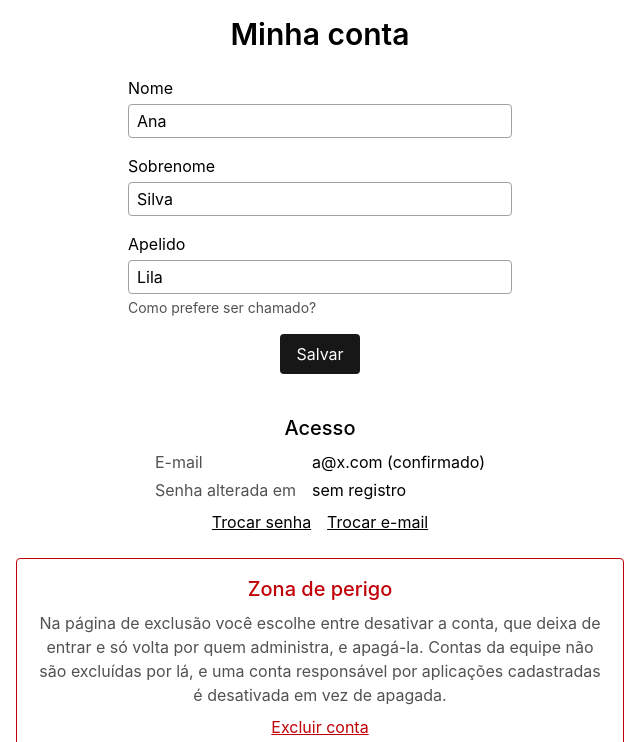
Test: Conta: formulário › T-14) editar um campo e devolver ao valor original não o inclui
Expected: the heading "Minha conta" is shown, x1=230 y1=16 x2=410 y2=52
Replace the text in the field labelled "Nome" with "Outro": (320,121) x1=128 y1=104 x2=512 y2=138
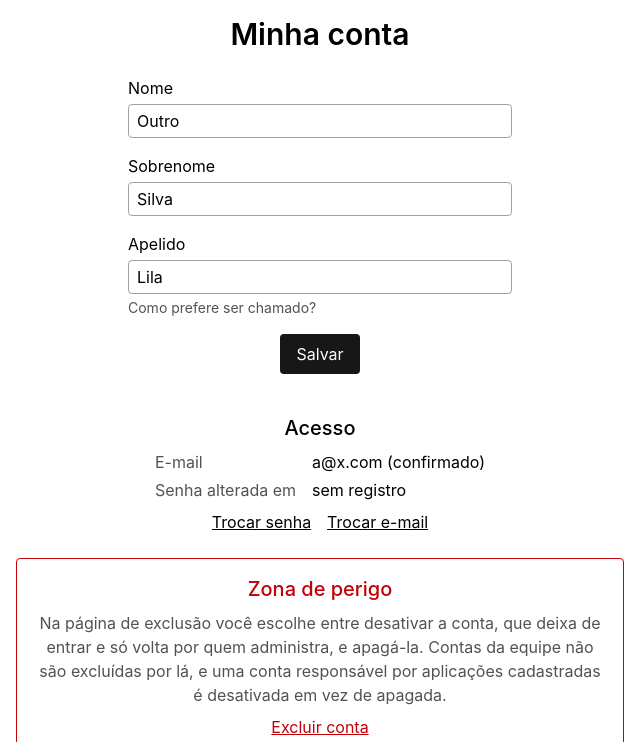
Replace the text in the field labelled "Nome" with "Ana": (320,121) x1=128 y1=104 x2=512 y2=138
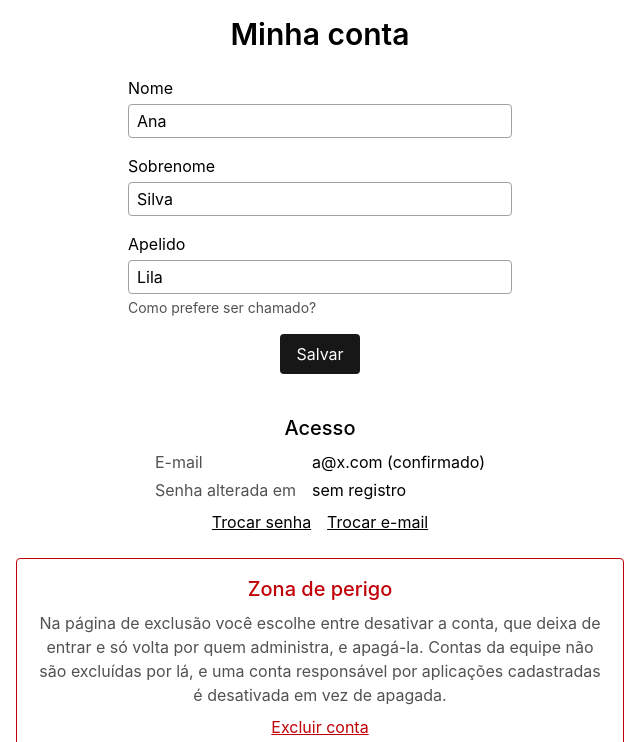
Replace the text in the field labelled "Apelido" with "Novo": (320,277) x1=128 y1=260 x2=512 y2=294
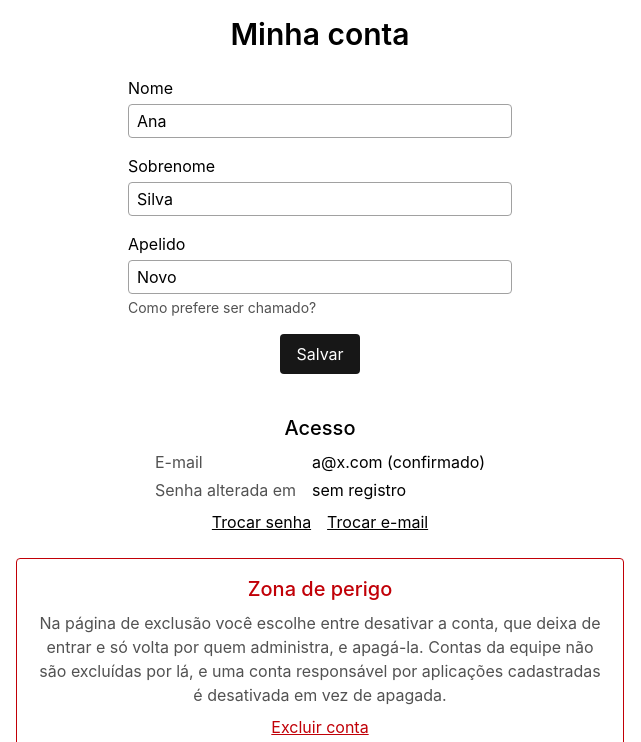
Click the button "Salvar": (320,354) x1=280 y1=334 x2=360 y2=374
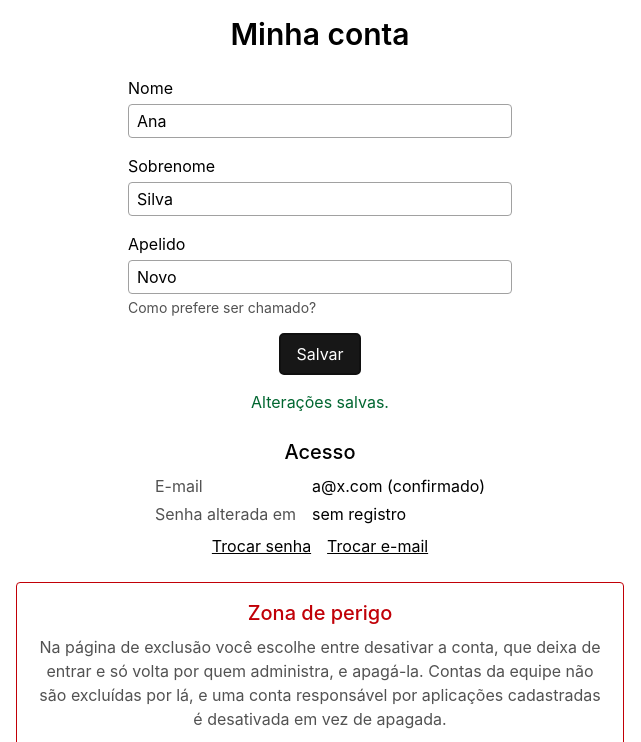
Expected: the text "Alterações salvas." is shown, x1=251 y1=392 x2=389 y2=412
